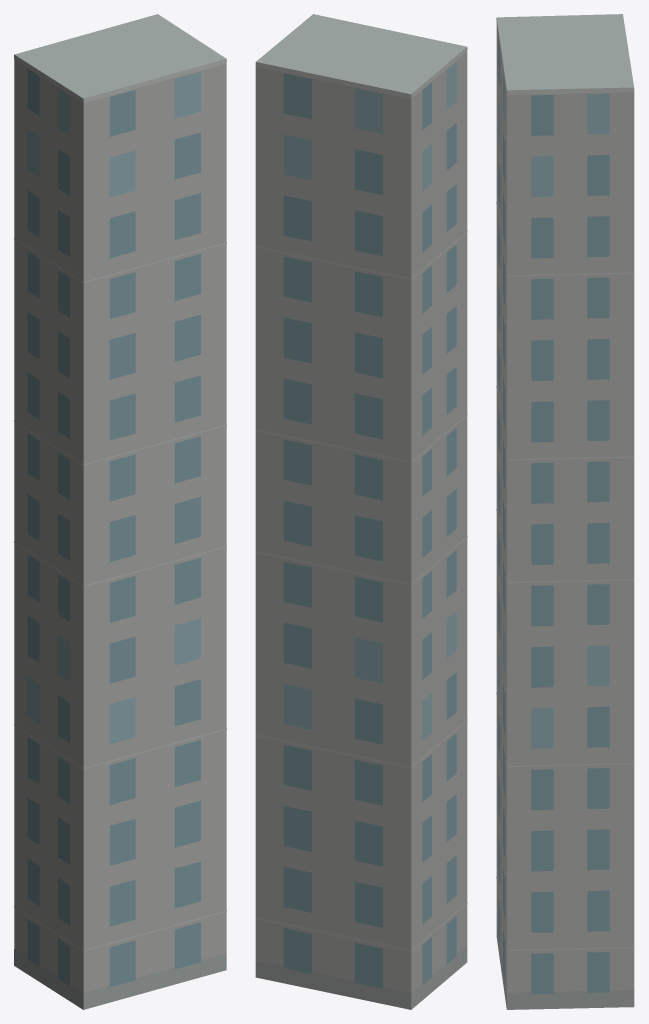
File: survey-upis-32728913.glb
3 renders of one model, left to right at view 1: azimuth 30°, elevation 25°; view 2: azimuth 150°, elevation 25°; view 3: azimuth 270°, elevation 25°, orthographic.
Visible parts, largest first — view 1: survey-upis-32728913.tmp; view 2: survey-upis-32728913.tmp; view 3: survey-upis-32728913.tmp.
Boxes of the visible parts, x1,y1,x2,y2 form: survey-upis-32728913.tmp: (14,14,226,1009); survey-upis-32728913.tmp: (255,14,467,1009); survey-upis-32728913.tmp: (496,14,634,1009).
Bounding box in the file's own units: 8.17 × 45.75 × 6.22.
